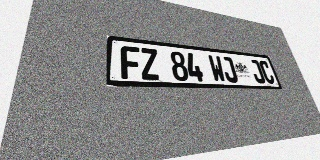4: (185, 52, 204, 82)
8: (169, 51, 189, 81)
C: (258, 60, 276, 84)
F: (121, 45, 141, 79)
J: (220, 56, 239, 83), (248, 59, 266, 84)
W: (208, 55, 227, 82)
Z: (140, 48, 160, 80)
